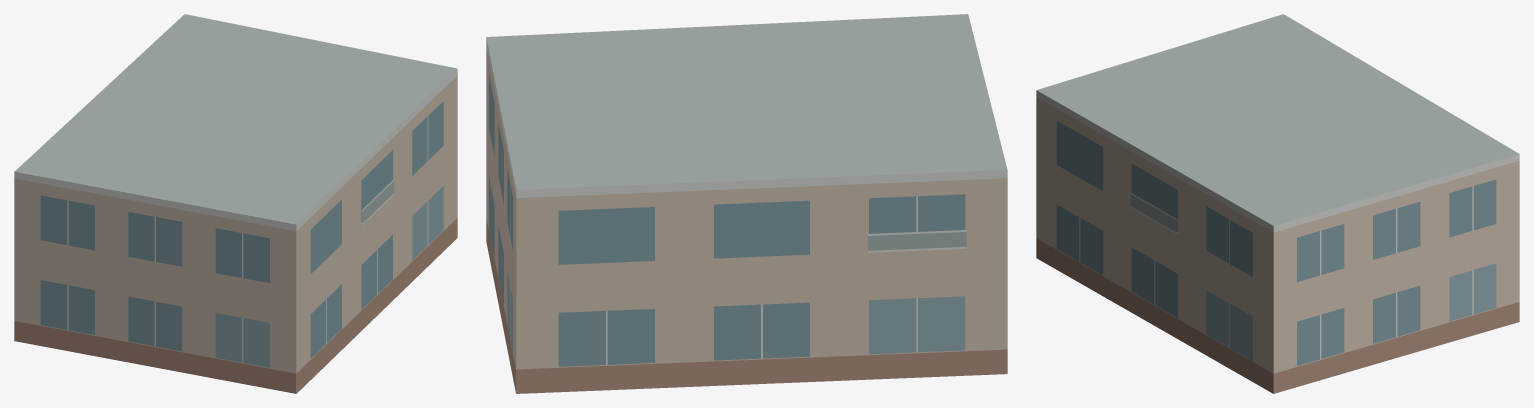
File: survey-upis-32641899.glb
3 views of the same model, side by side, from view 1: azimuth 30°, elevation 25°; view 2: azimuth 150°, elevation 25°; view 3: azimuth 270°, elevation 25° (orthographic). The views are drawn at different scales.
Visible parts, largest first — view 1: survey-upis-32641899.tmp; view 2: survey-upis-32641899.tmp; view 3: survey-upis-32641899.tmp.
Boxes of the visible parts, x1,y1,x2,y2 form: survey-upis-32641899.tmp: (14,14,457,393); survey-upis-32641899.tmp: (486,14,1007,393); survey-upis-32641899.tmp: (1036,14,1519,393).
Bounding box in the file's own units: 16.52 × 6.1 × 15.91.
